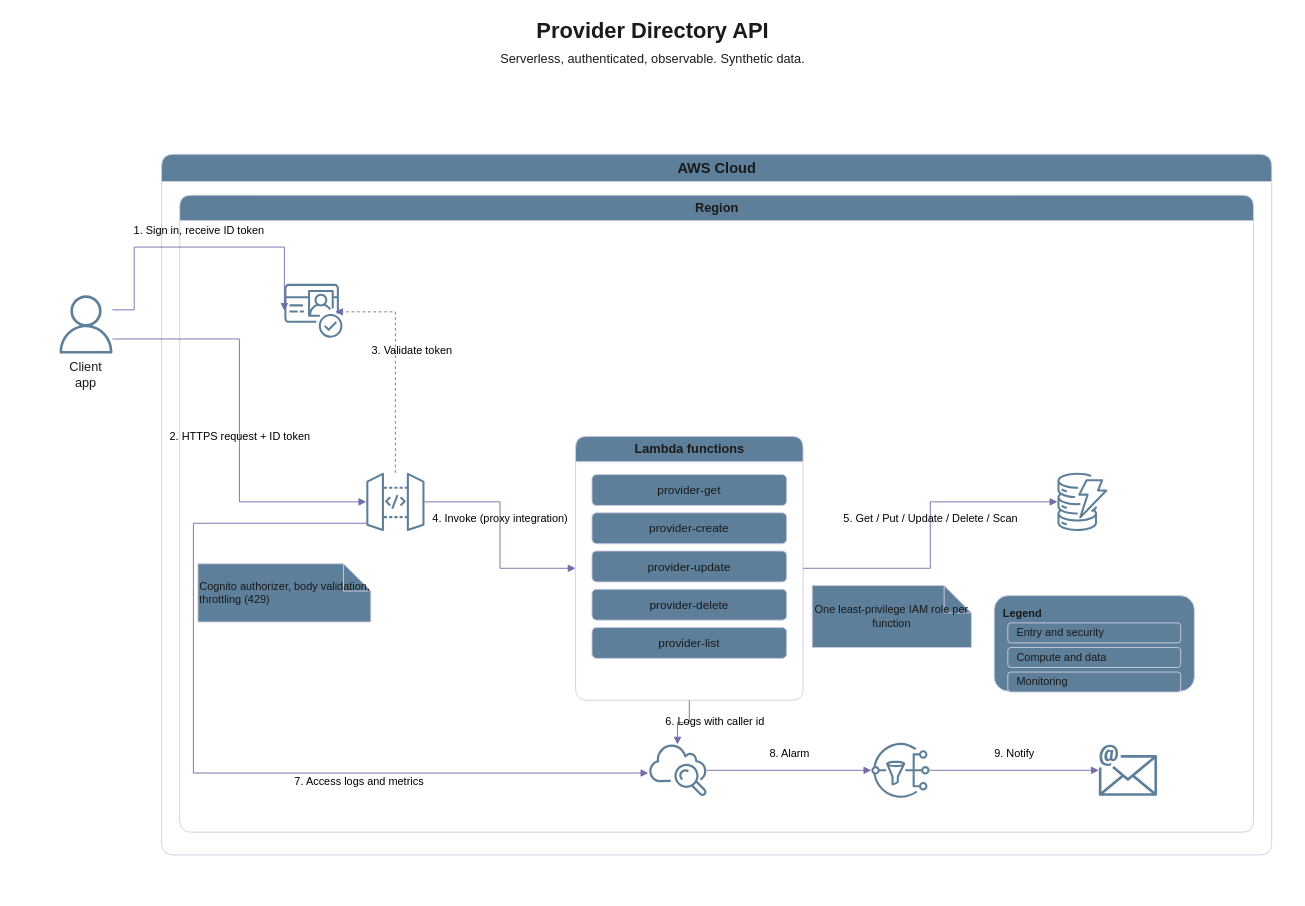
The diagram is 1305 pixels wide and 906 high, and some of its shapes have lost their labels. The centre of each missing label's shape, as x and y in pixels:
Amazon API Gateway REST API, stage dev: (x=395, y=501)
Amazon CloudWatch Logs, metrics, dashboard, alarms: (x=677, y=769)
Amazon Cognito User pool, self sign-up off: (x=313, y=310)
Amazon DynamoDB providers table: (x=1082, y=501)
Amazon SNS: (x=900, y=769)
Email: (x=1127, y=769)
